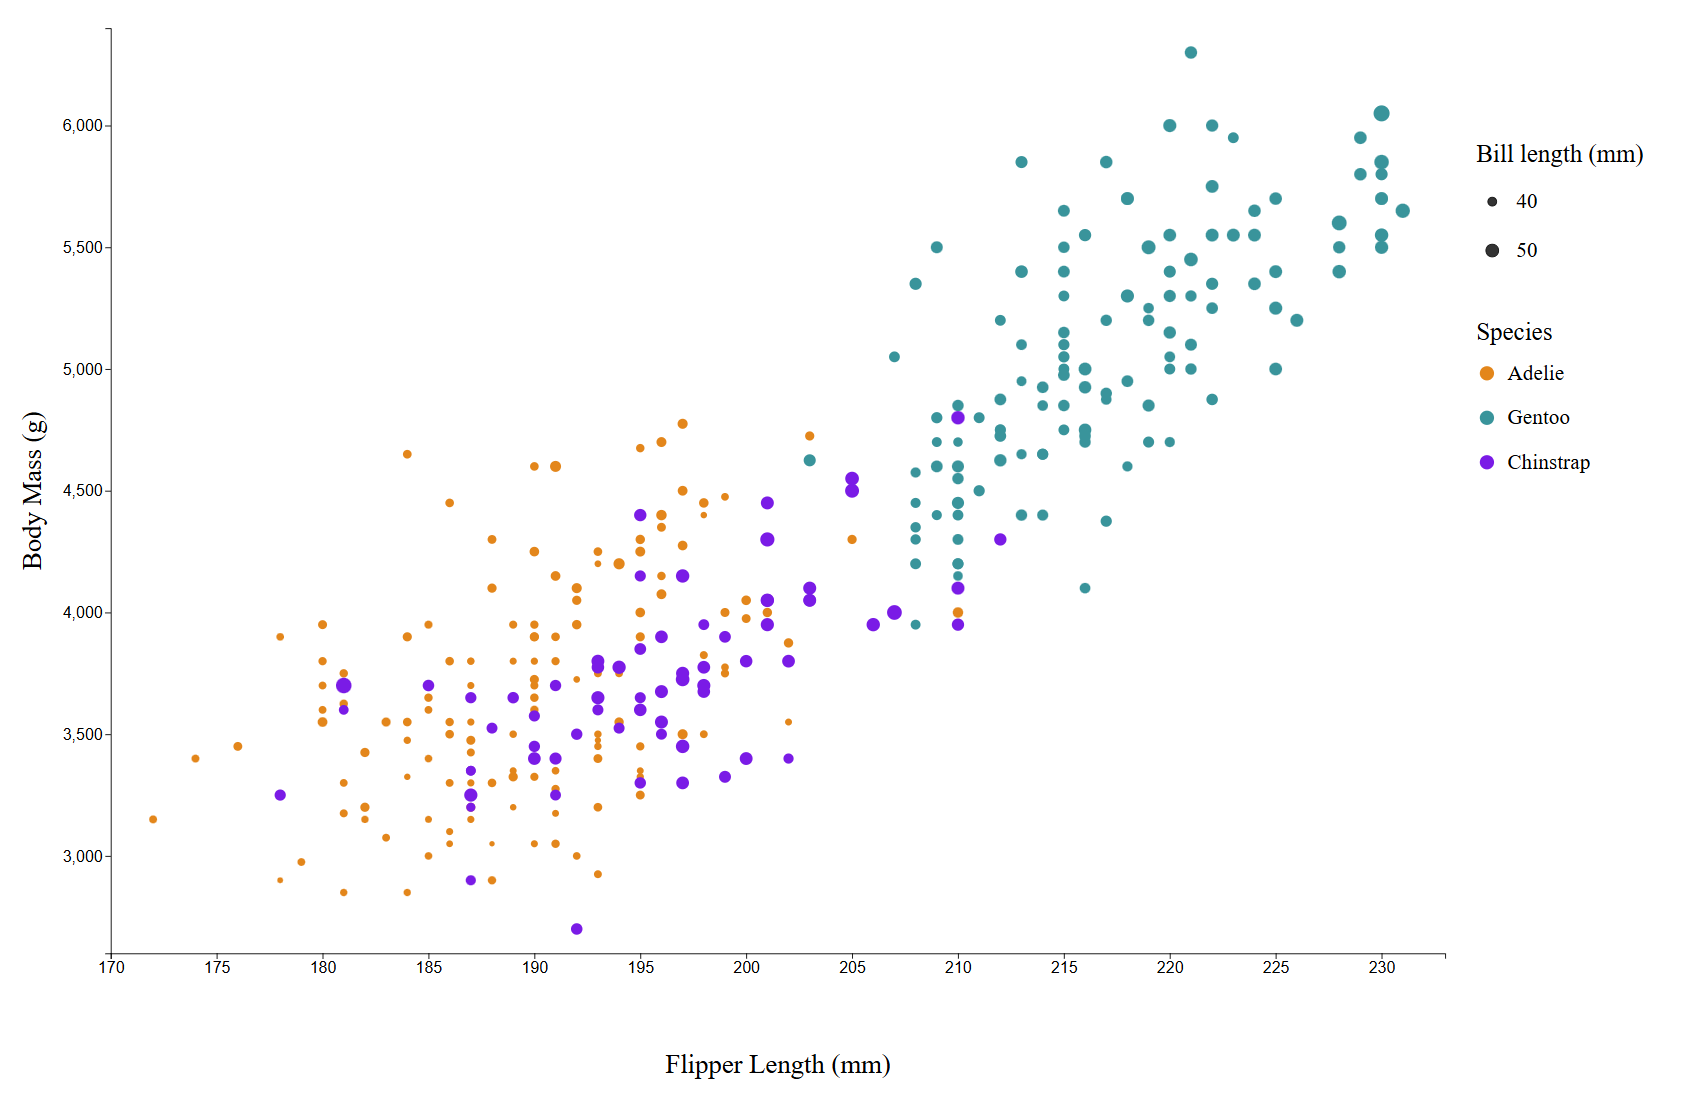

The dashboard page shown, as its layout file describes it:
{"tool":"powerbi","page":{"name":"Page 1","canvas":[1920,1080],"ordinal":0},"visuals":[{"type":"scatterChart","fields":{"Category":["penglings (2).Column1"],"Series":["penglings (2).species"],"Size":["Avg(penglings (2).bill_length_mm)"],"X":["penglings (2).flipper_length_mm"],"Y":["Avg(penglings (2).body_mass_g)"]},"box":[5.2,0,1909.7,1080.6],"z":2}]}

Visuals, with their boxes on the page's 1920x1080 design canvas (x1, y1, x2, y2). These are canvas units, not pixel positions in the 1694x1117 screenshot, which may show the page scaled, cropped or inside an application window:
scatterChart - penglings (2).Column1 x penglings (2).species: (5,0,1915,1081)
